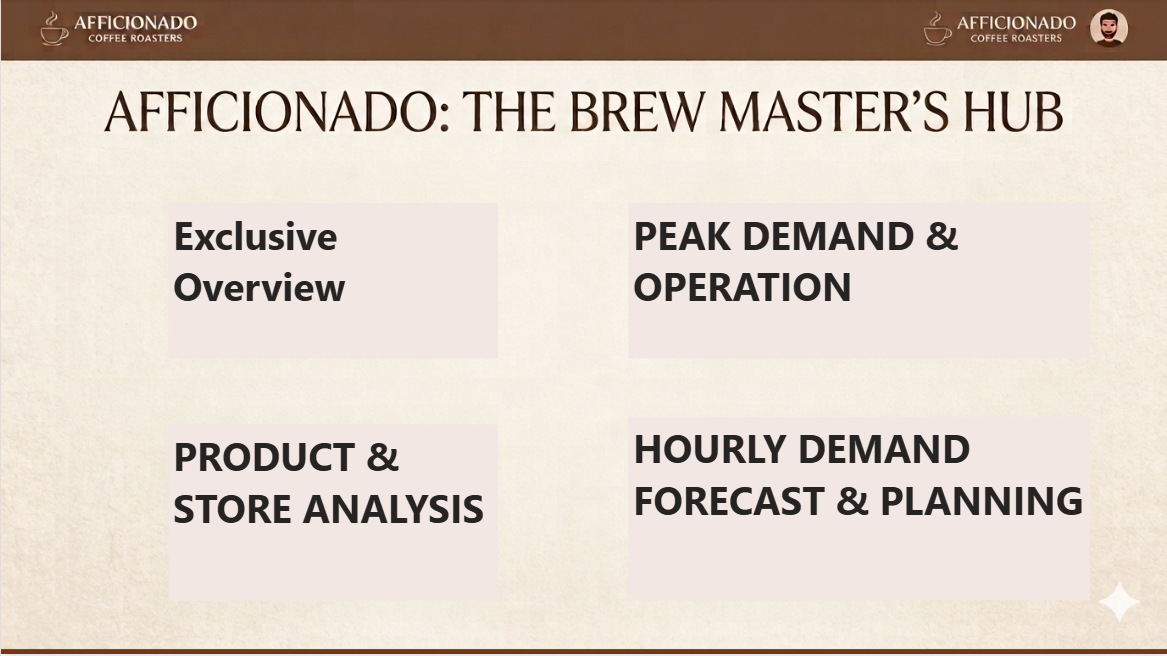

Layout of this report page (visuals, bound fields, positions):
{"tool":"powerbi","page":{"name":"Home","canvas":[1280,720],"ordinal":0},"visuals":[{"type":"textbox","box":[183.3,225,361.7,170],"z":0},{"type":"textbox","box":[688.3,225,506.7,170],"z":1000},{"type":"textbox","box":[183.3,468.3,361.7,193.3],"z":2000},{"type":"textbox","box":[688.3,460,506.7,201.7],"z":3000},{"type":"actionButton","box":[183.3,238.3,361.7,143.3],"z":4000},{"type":"actionButton","box":[688.3,238.3,445,143.3],"z":5000},{"type":"actionButton","box":[183.3,468.3,361.7,175],"z":6000},{"type":"actionButton","box":[688.3,468.3,506.7,193.3],"z":7000}]}

Visuals, with their boxes on the page's 1280x720 design canvas (x1, y1, x2, y2). These are canvas units, not pixel positions in the 1167x656 screenshot, which may show the page scaled, cropped or inside an application window:
textbox: 183, 225, 545, 395
textbox: 688, 225, 1195, 395
textbox: 183, 468, 545, 662
textbox: 688, 460, 1195, 662
actionButton: 183, 238, 545, 382
actionButton: 688, 238, 1133, 382
actionButton: 183, 468, 545, 643
actionButton: 688, 468, 1195, 662
